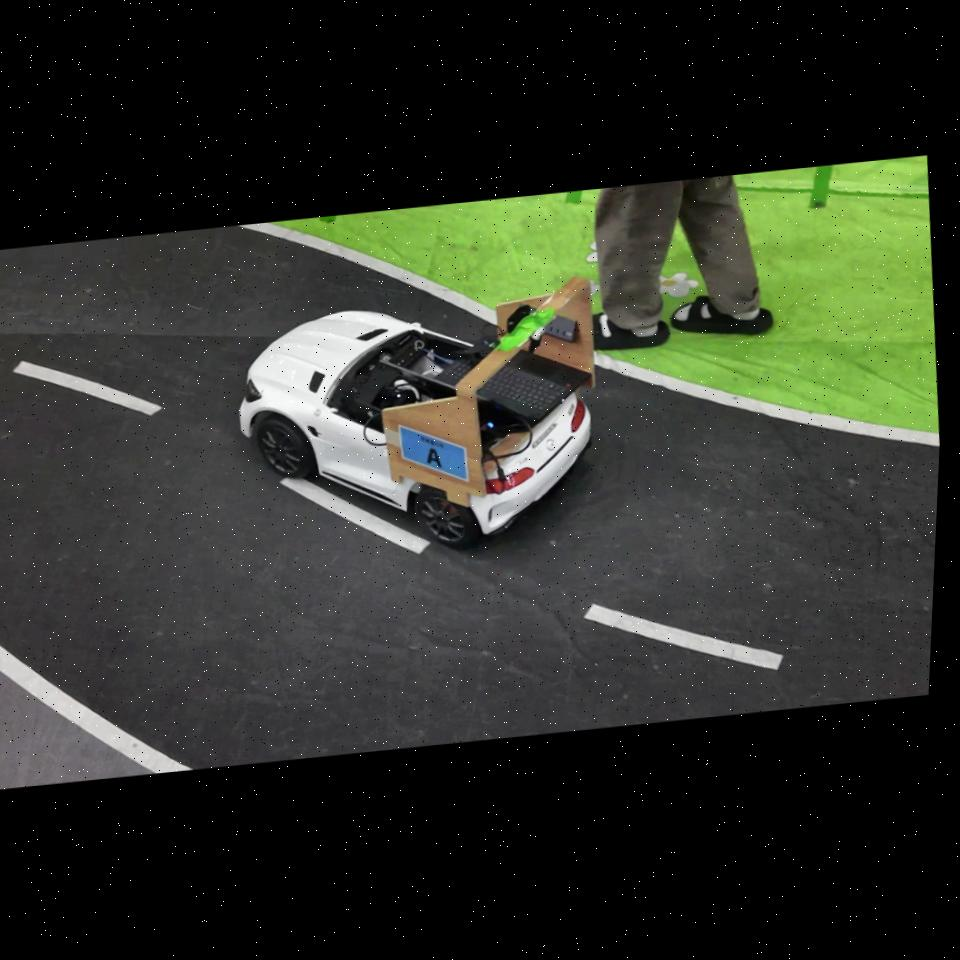broken_line: (584, 604, 783, 670), (280, 477, 431, 555), (13, 360, 163, 416)
